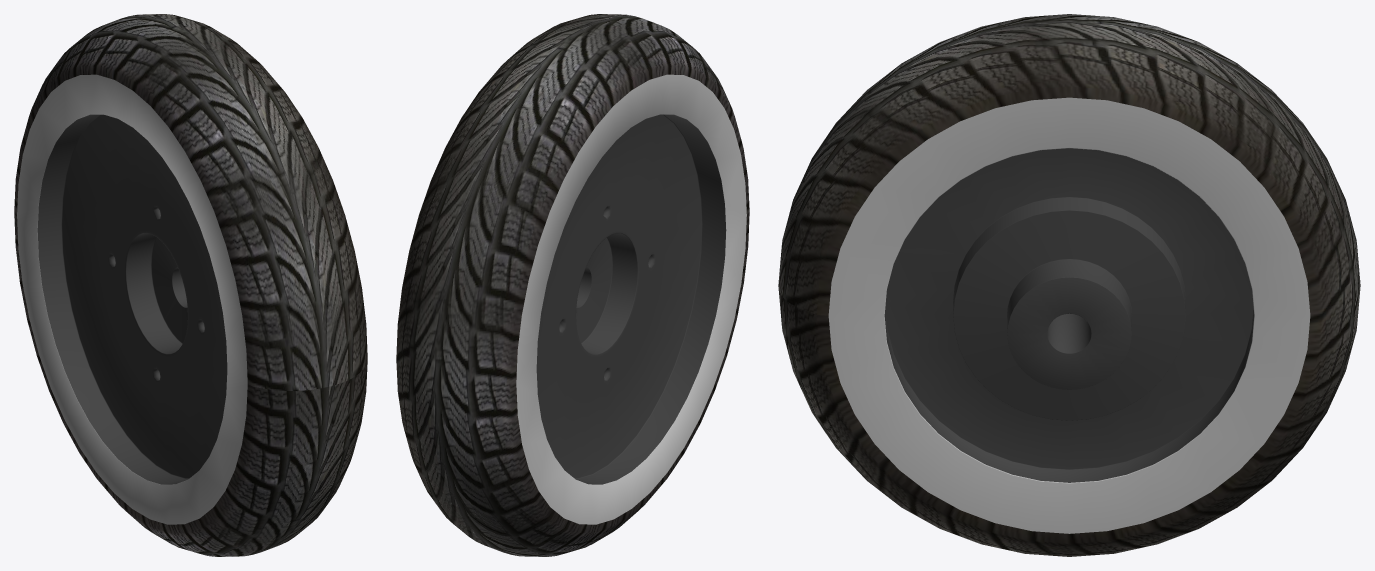
File: wheel.dae
3 views of the same model, side by side, from view 1: azimuth 30°, elevation 25°; view 2: azimuth 150°, elevation 25°; view 3: azimuth 270°, elevation 25° (orthographic). The views are drawn at different scales.
Visible parts, largest first — view 1: pasted__polySurface1, pasted__polySurface5, pasted__polySurface7; view 2: pasted__polySurface1, pasted__polySurface5, pasted__polySurface7; view 3: pasted__polySurface5, pasted__polySurface1, pasted__polySurface7.
Boxes of the visible parts, x1,y1,x2,y2 form: pasted__polySurface1: (14,14,367,556); pasted__polySurface5: (37,114,227,484); pasted__polySurface7: (17,74,247,524); pasted__polySurface1: (396,14,749,556); pasted__polySurface5: (536,114,726,484); pasted__polySurface7: (516,74,746,524); pasted__polySurface5: (884,148,1254,482); pasted__polySurface1: (778,14,1360,556); pasted__polySurface7: (828,97,1310,533).
Bounding box in the file's own units: 0.0556 × 0.1745 × 0.1745.
Materials: 3 (1 with a texture image).
